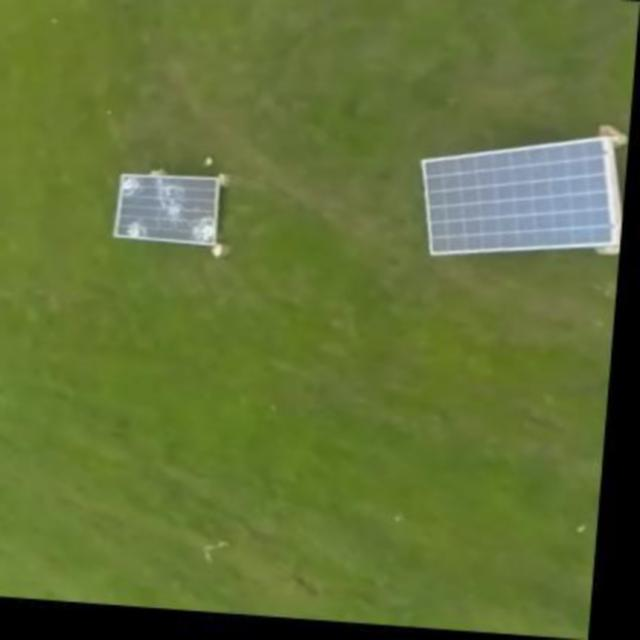cracked: (112, 169, 222, 250)
